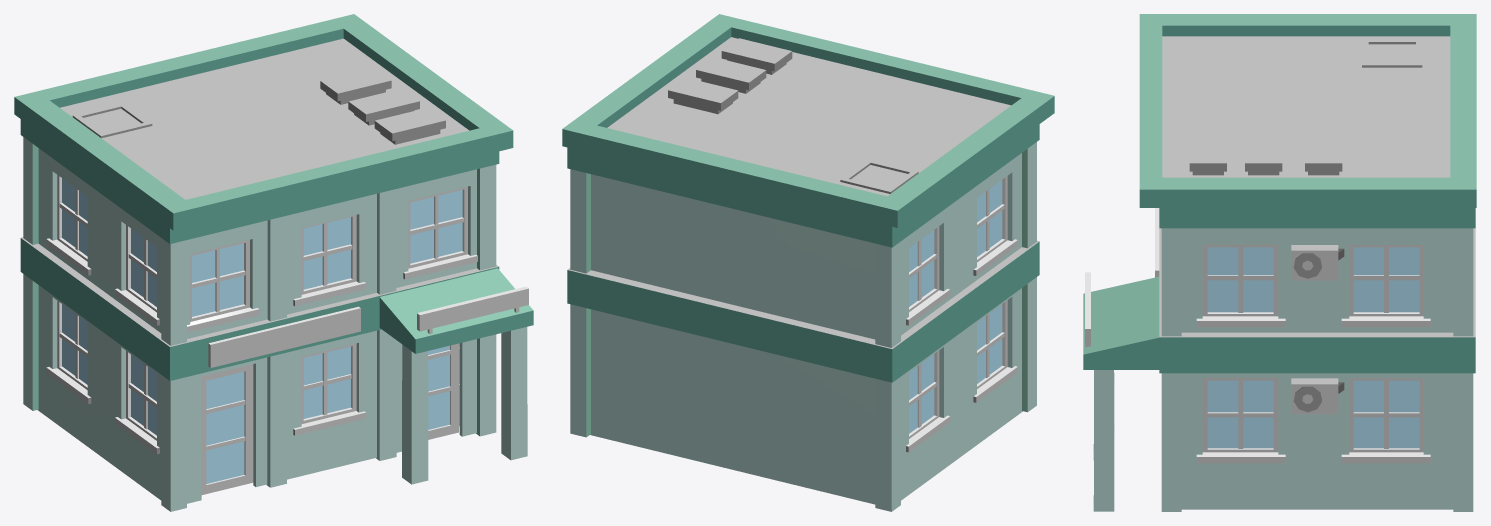
Rendered from bank_010.glb.
3 views of the same model, side by side, from view 1: azimuth 30°, elevation 25°; view 2: azimuth 150°, elevation 25°; view 3: azimuth 270°, elevation 25° (orthographic). The views are drawn at different scales.
Parts seen in each view (by area): view 1: bank_010; view 2: bank_010; view 3: bank_010.
Part boxes in pixels (bbox=[...]): bank_010: bbox=[14, 14, 533, 511]; bank_010: bbox=[562, 14, 1054, 511]; bank_010: bbox=[1083, 14, 1476, 511].
Bounding box in the file's own units: 7.15 × 6.28 × 6.76.
1 material, 1 textured.
